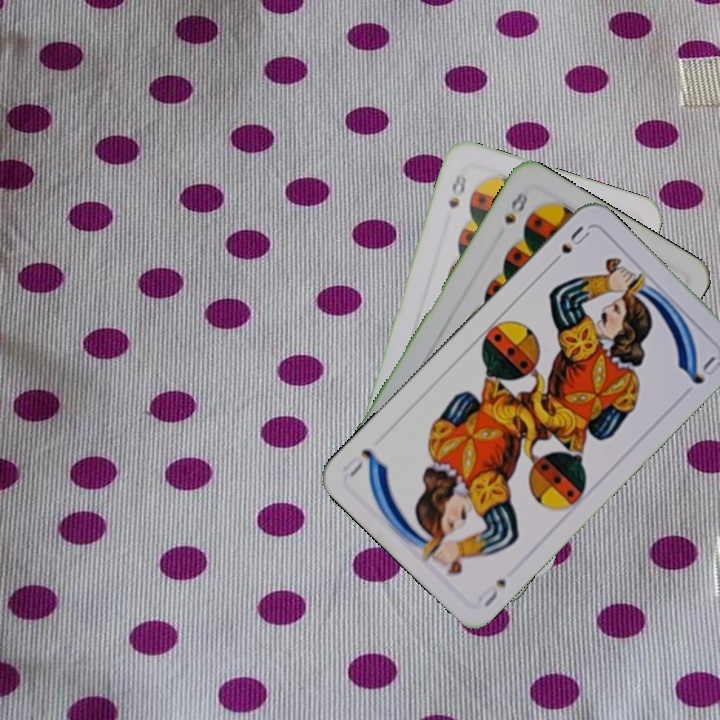S8: (500, 186, 531, 227), (444, 168, 470, 211)
SU: (545, 221, 594, 269), (473, 574, 509, 610)
